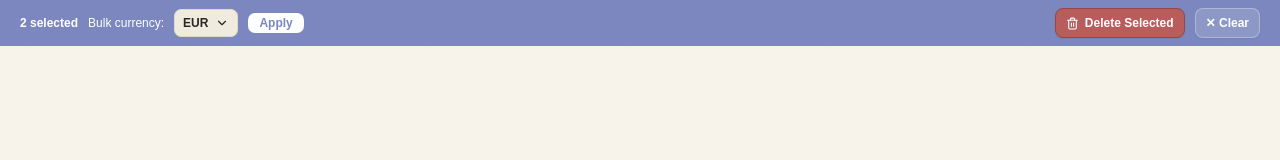
Test: BulkActionBar › FE-BULK-007 renders only provided currency options
The image size is (1280, 160).
Click the dropdown named "Bulk currency:" at x=206, y=23, box [174,9,238,37]
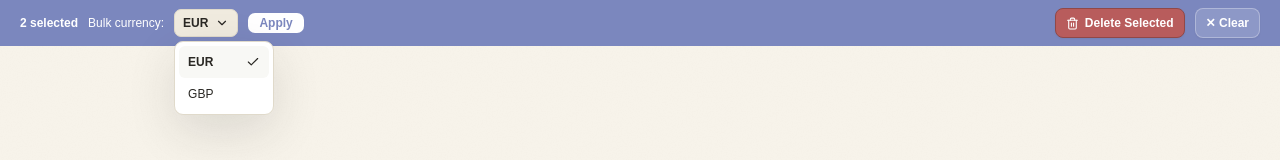
Expected: the options read "EUR", "GBP", in this order, [179,46,269,78]; [179,78,269,110]
